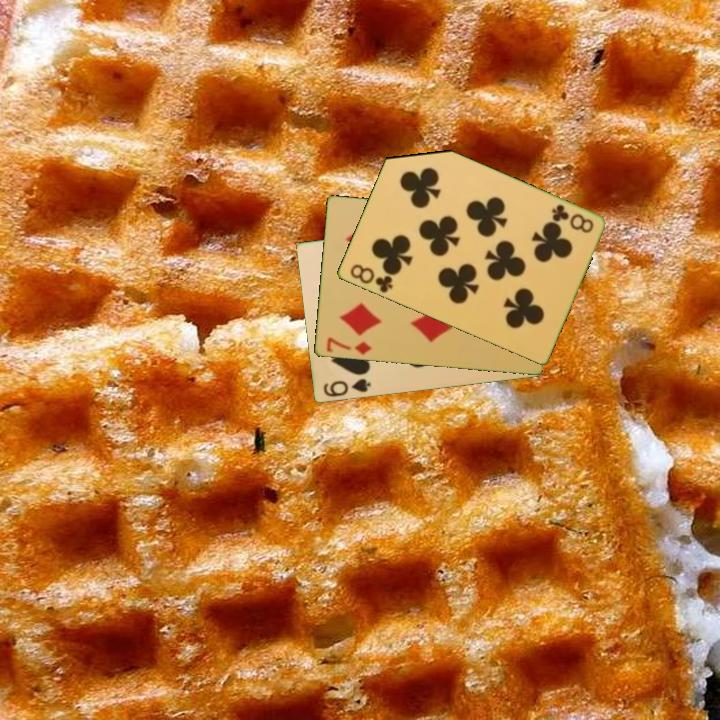6s: (320, 376, 373, 400)
7d: (323, 334, 374, 358)
8c: (346, 261, 395, 296), (547, 201, 596, 236)
